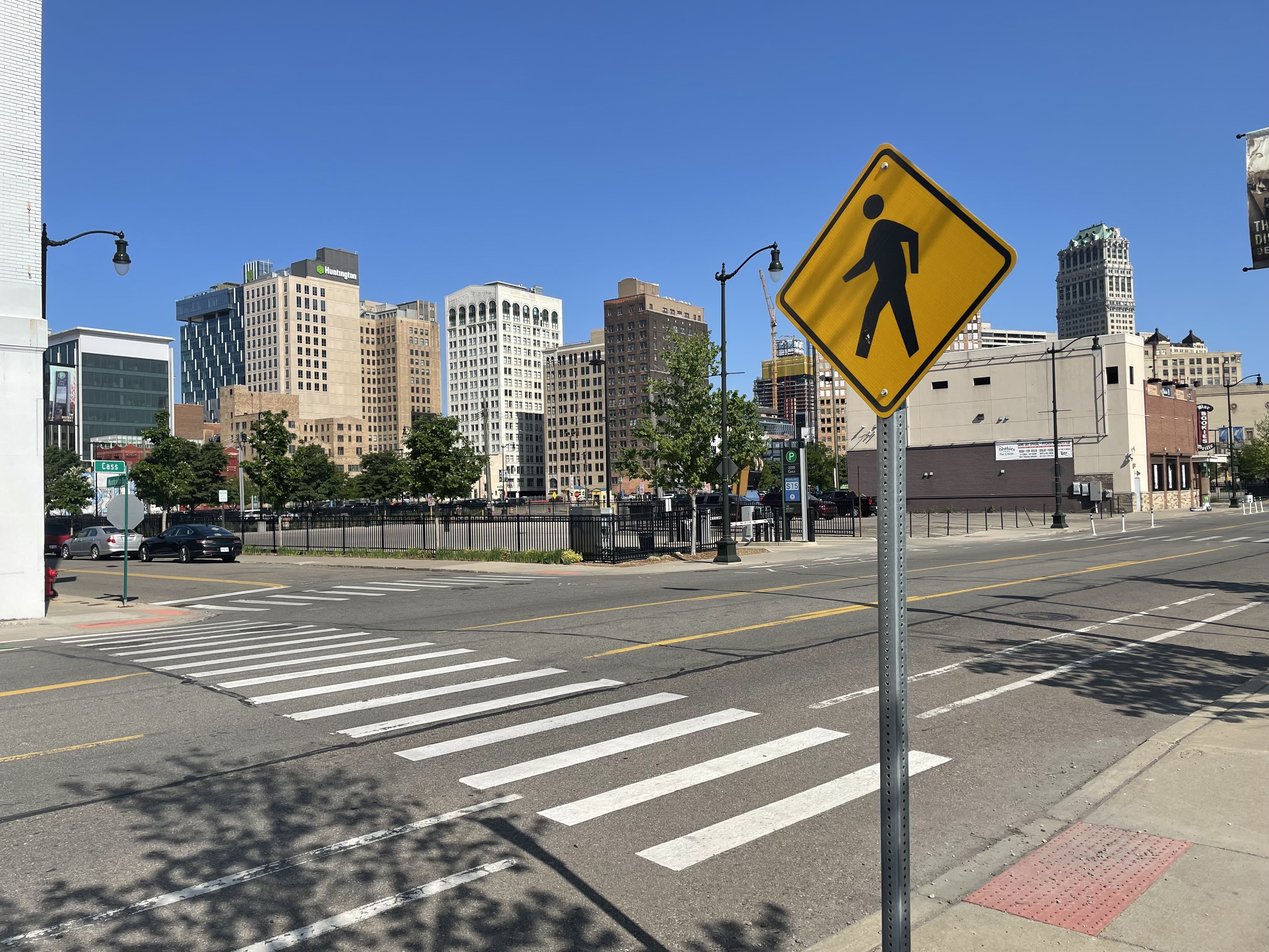Car: (141, 510, 241, 567), (54, 520, 138, 569)
CrossSign: (777, 138, 1009, 412)
Crosswalk: (112, 631, 867, 880), (175, 556, 600, 609)
Tree: (128, 422, 204, 519), (401, 404, 460, 522), (271, 437, 352, 518), (348, 450, 409, 519)
